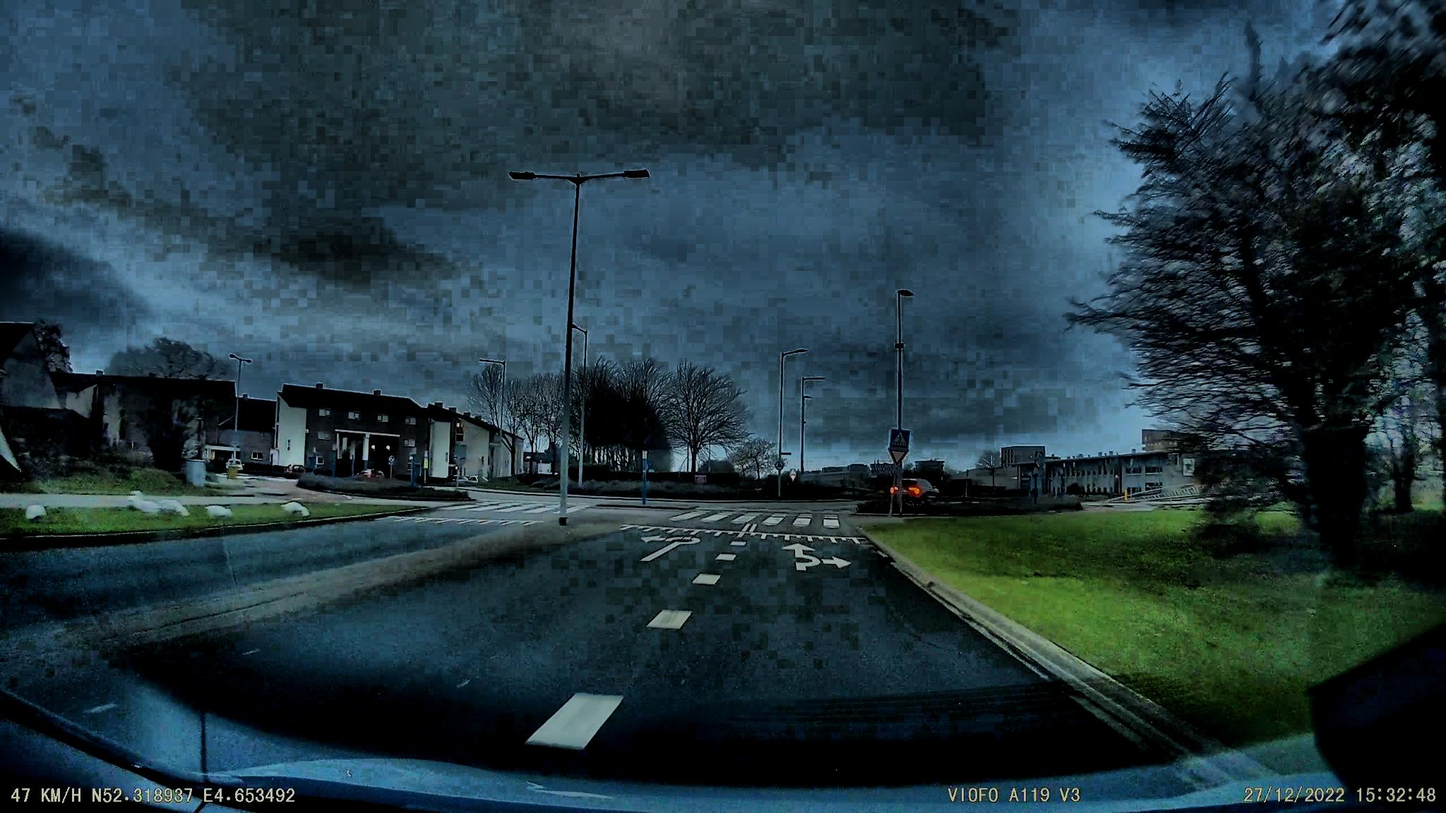Roads: (0, 490, 1198, 813)
